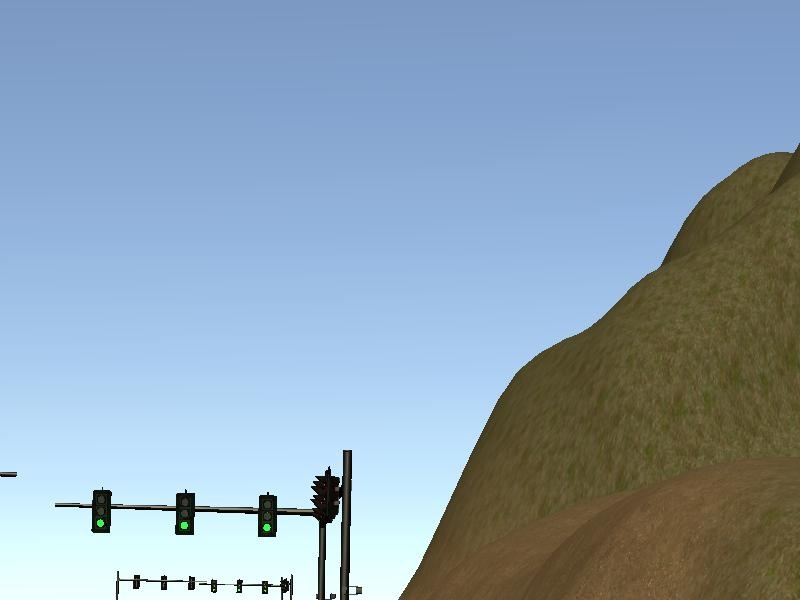green: (174, 493, 196, 535), (91, 490, 111, 533), (257, 494, 277, 537)
